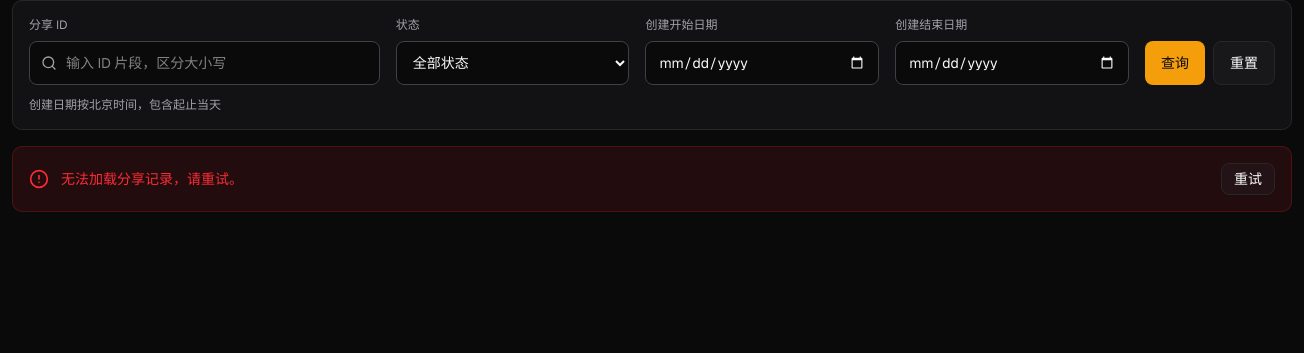
Test: PastesTable › 请求失败后结束加载，并允许重新请求
expect the message shows "无法加载分享记录": met, box [61,170,243,188]
Click the button "重试".
click(1248, 179)  # box [1221,163,1275,195]
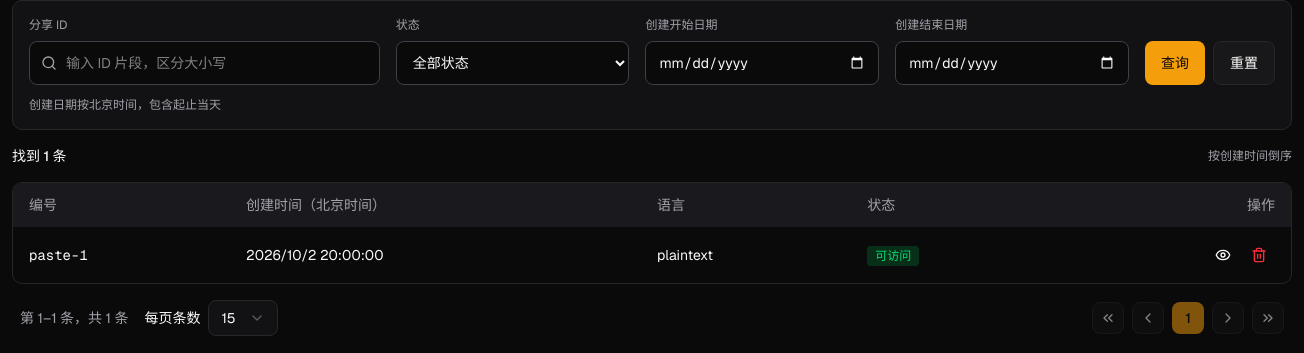
expect the text "paste-1" is shown: met, box [29,246,88,264]
